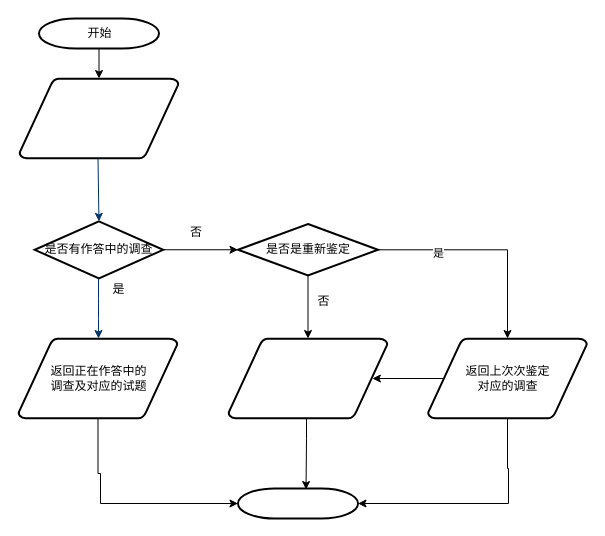
Image size: 605x536. Some labels were removed from this diagram. The shapes that lost their labels are listed below. From the top down, each one's centre as x and y in pixels, then its label:
At point 98,118: "调查预览接口".
At point 307,378: "返回最大版本的 调查及对应的试题".
At point 297,503: "结束".
